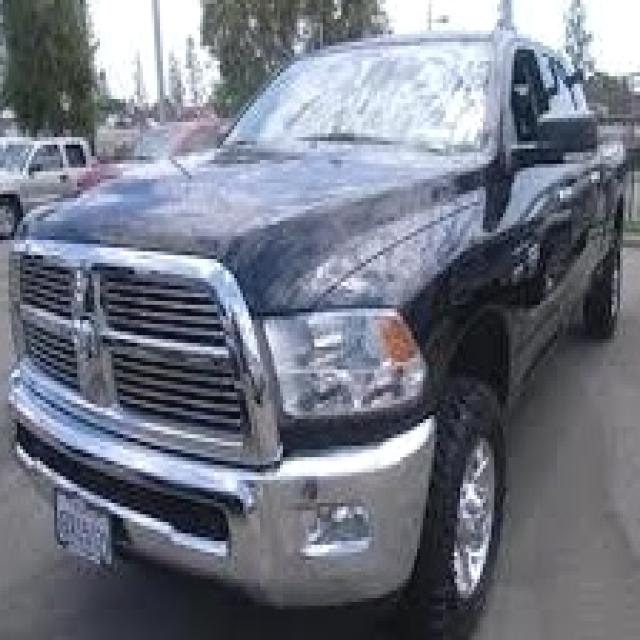CMT: (2, 22, 623, 630)
